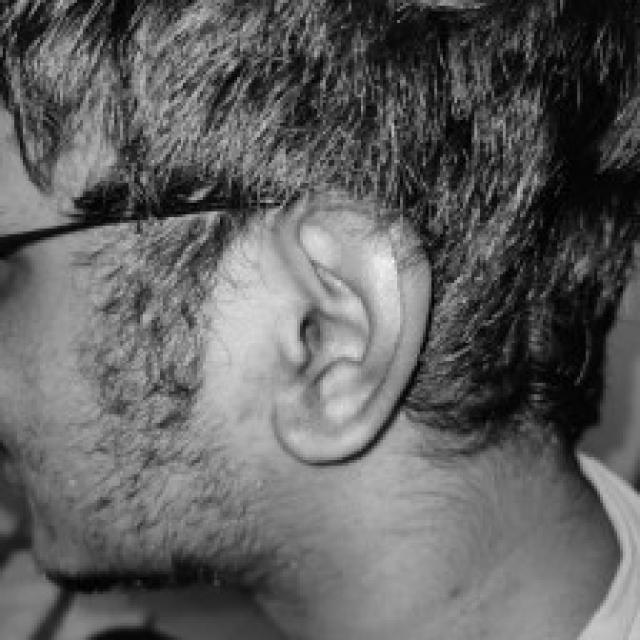ear: (271, 191, 426, 460)
